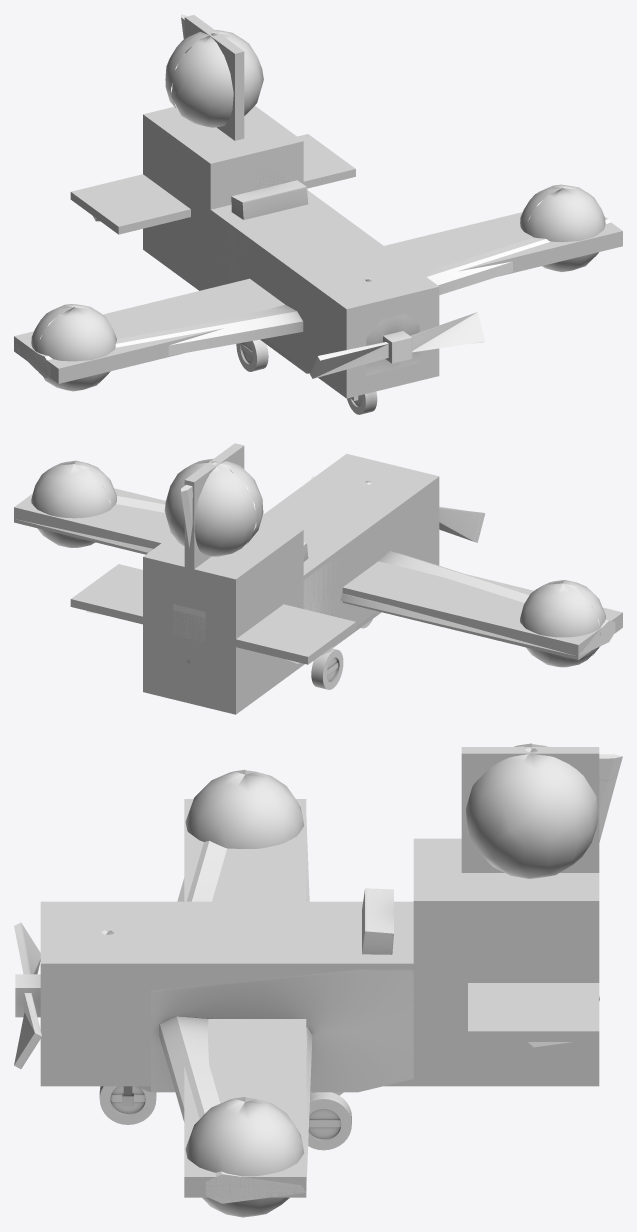
File: airplane.glb
The picture shows the model from 3 angles, top to bottom: view 1: azimuth 30°, elevation 25°; view 2: azimuth 150°, elevation 25°; view 3: azimuth 270°, elevation 25°; orthographic projection. The views are drawn at different scales.
Visible parts, largest first — view 1: Cube.008, body, Cube.009, Cube.014, Cube.013, Sphere.004, Sphere.002, Cube.012, Sphere.003, rotor, Cube.010, Cube.011 (+1 smaller); view 2: Cube.008, Cube.009, Cube.014, Sphere.004, body, Cube.013, Sphere.002, Cube.012, Sphere.003, Cube.011, Cube.010, rotor (+3 smaller); view 3: Cube.008, body, Cube.009, Sphere.004, Cube.013, Sphere.003, Cube.011, Sphere.002, Cube.014, Cube.010, rotor, wheel_fl.001 (+1 smaller).
Part boxes in pixels (x1=…): Cube.008: x1=143, y1=160, x2=439, y2=398; body: x1=14, y1=14, x2=610, y2=400; Cube.009: x1=143, y1=106, x2=303, y2=209; Cube.014: x1=14, y1=278, x2=284, y2=383; Cube.013: x1=384, y1=212, x2=622, y2=276; Sphere.004: x1=165, y1=30, x2=263, y2=127; Sphere.002: x1=31, y1=304, x2=116, y2=391; Cube.012: x1=70, y1=174, x2=190, y2=234; Sphere.003: x1=520, y1=184, x2=605, y2=271; rotor: x1=310, y1=312, x2=485, y2=378; Cube.010: x1=184, y1=15, x2=244, y2=140; Cube.011: x1=297, y1=134, x2=355, y2=188; Cube.008: x1=143, y1=453, x2=439, y2=714; Cube.009: x1=143, y1=519, x2=303, y2=625; Cube.014: x1=342, y1=561, x2=622, y2=660; Sphere.004: x1=164, y1=458, x2=263, y2=556; body: x1=16, y1=484, x2=615, y2=663; Cube.013: x1=14, y1=485, x2=172, y2=554; Sphere.002: x1=520, y1=580, x2=605, y2=667; Cube.012: x1=236, y1=604, x2=355, y2=664; Sphere.003: x1=31, y1=460, x2=116, y2=547; Cube.011: x1=70, y1=564, x2=142, y2=624; Cube.010: x1=184, y1=443, x2=244, y2=569; rotor: x1=310, y1=476, x2=485, y2=542; Cube.008: x1=40, y1=901, x2=599, y2=1086; body: x1=122, y1=754, x2=622, y2=1203; Cube.009: x1=413, y1=838, x2=599, y2=963; Sphere.004: x1=466, y1=743, x2=598, y2=878; Cube.013: x1=184, y1=1019, x2=306, y2=1197; Sphere.003: x1=185, y1=1097, x2=304, y2=1217; Cube.011: x1=468, y1=983, x2=599, y2=1041; Sphere.002: x1=185, y1=769, x2=304, y2=848; Cube.014: x1=184, y1=799, x2=306, y2=901; Cube.010: x1=461, y1=747, x2=599, y2=872; rotor: x1=14, y1=922, x2=41, y2=1068; wheel_fl.001: x1=308, y1=1092, x2=351, y2=1150.
Size of the model in its own units: 3.56 by 1.64 by 2.43.
Materials: 2 (2 with a texture image).
